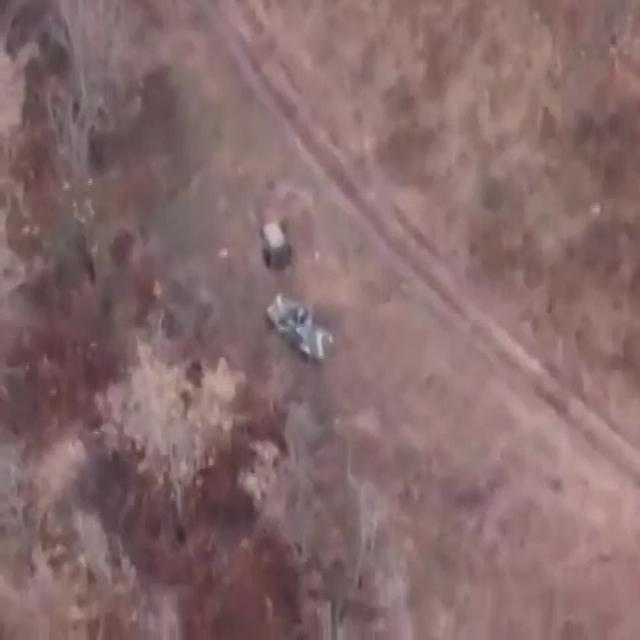apc: (266, 295, 332, 364)
cars: (260, 222, 293, 272)
